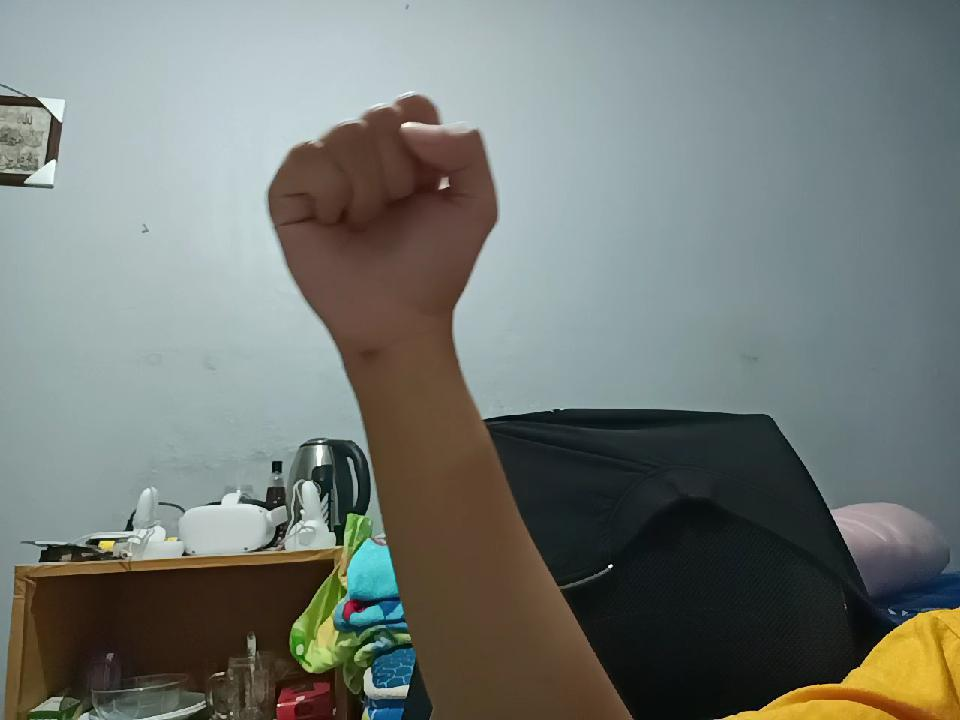rock: (256, 84, 500, 361)
